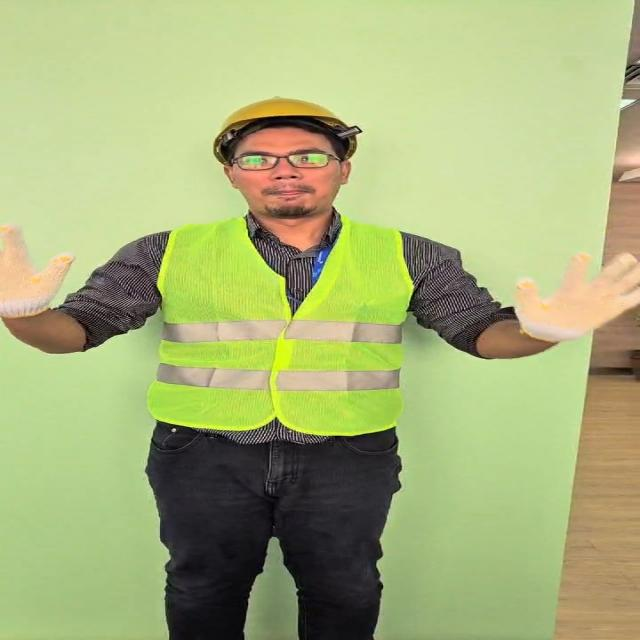gloves: (509, 248, 640, 342), (0, 224, 80, 319)
goggles: (229, 149, 344, 173)
helmet: (207, 92, 365, 144)
safety_vest: (154, 213, 416, 439)
